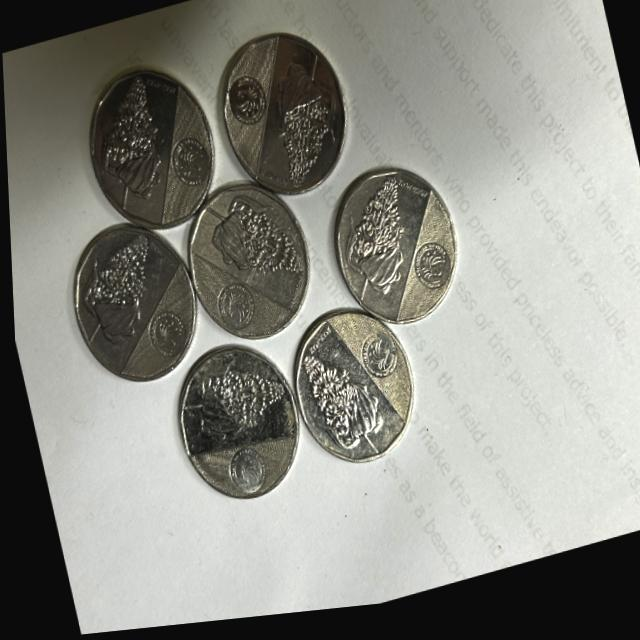10_New_Back: (322, 174, 425, 330), (85, 70, 183, 216), (169, 348, 290, 466), (253, 55, 352, 198), (66, 225, 165, 364), (202, 185, 302, 298), (288, 329, 364, 468)
